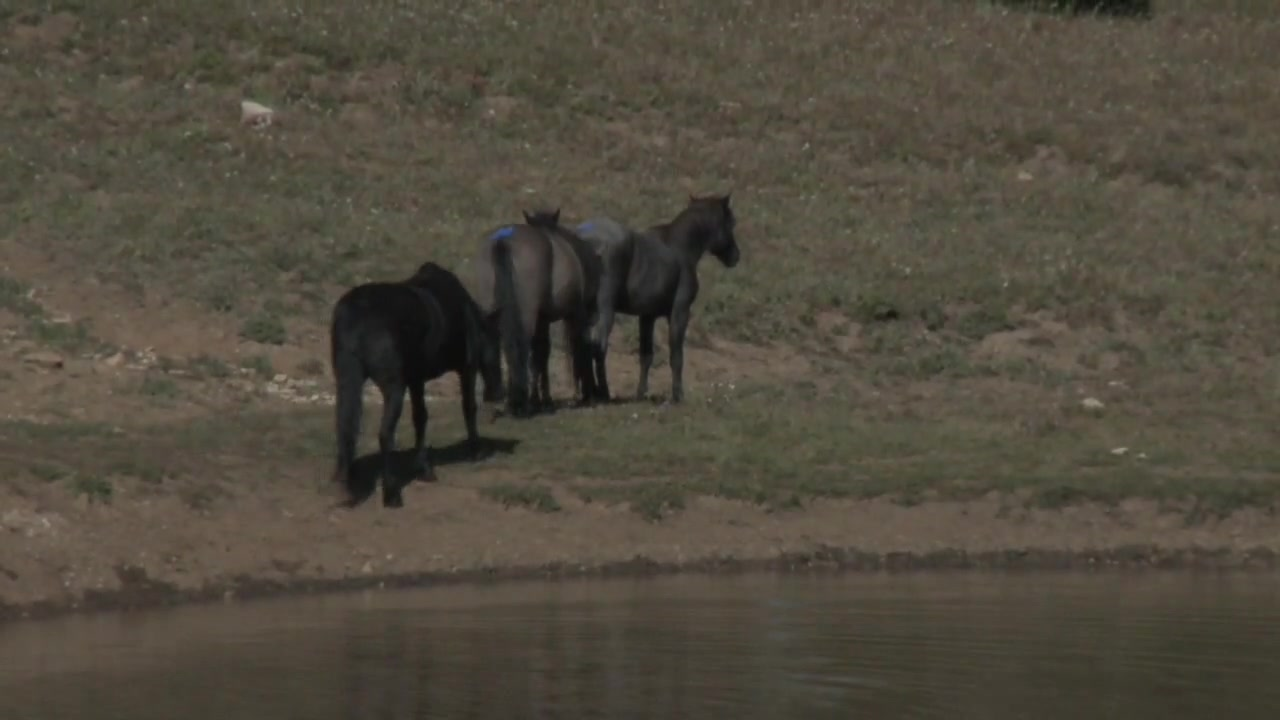horse: (327, 264, 508, 516), (569, 188, 747, 412), (471, 200, 588, 418)
